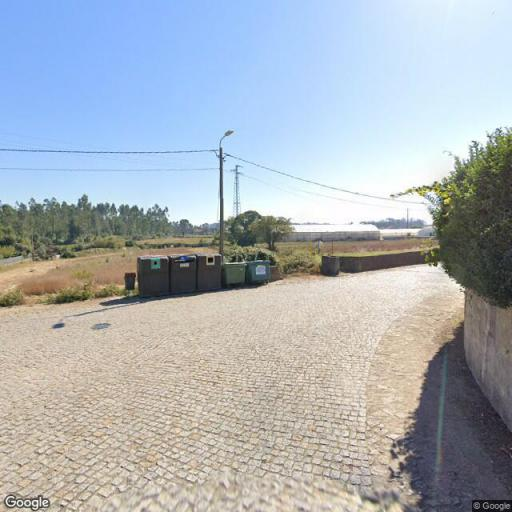ss_1: (230, 163, 244, 217)
